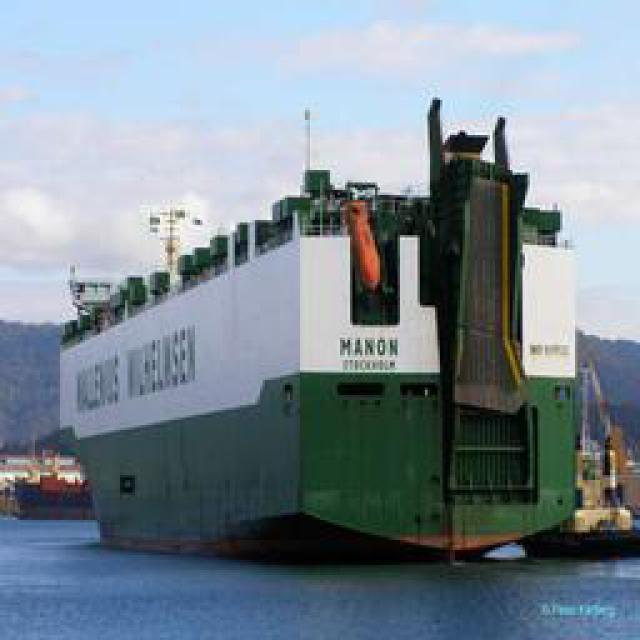Ship: (27, 92, 604, 578)
